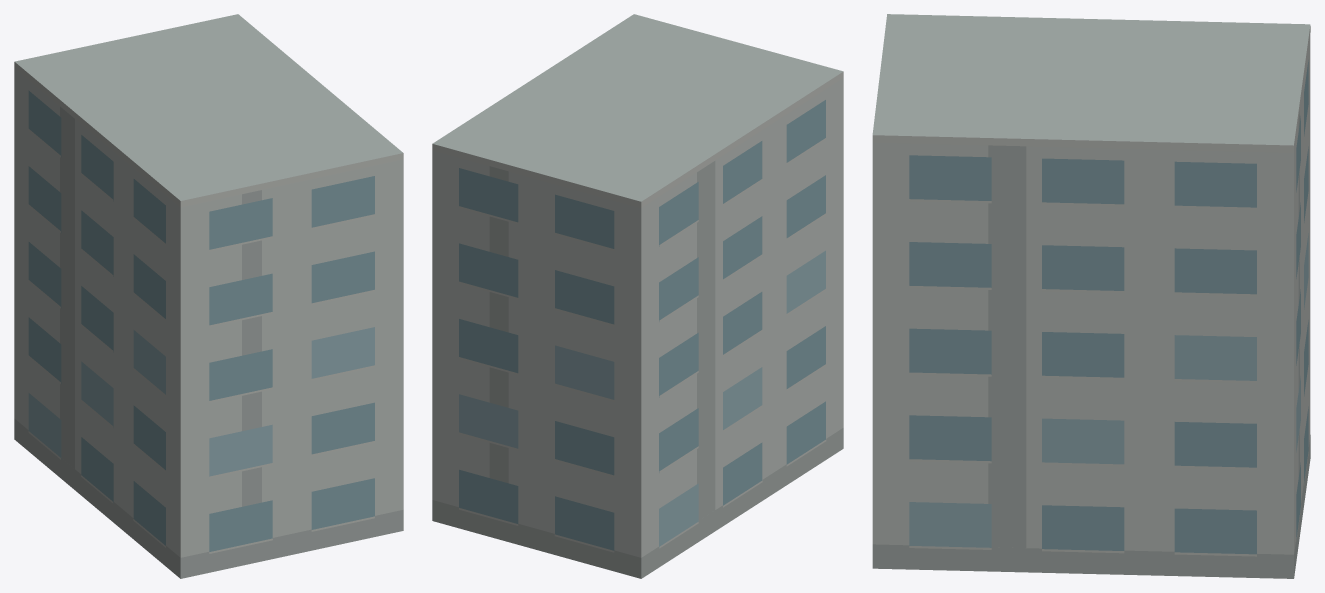
Rendered from survey-upis-32951584.glb.
3 views of the same model, side by side, from view 1: azimuth 30°, elevation 25°; view 2: azimuth 150°, elevation 25°; view 3: azimuth 270°, elevation 25° (orthographic). The views are drawn at different scales.
Visible parts, largest first — view 1: survey-upis-32951584.tmp; view 2: survey-upis-32951584.tmp; view 3: survey-upis-32951584.tmp.
Boxes of the visible parts, box(x1,y1,x2,y2) form: survey-upis-32951584.tmp: box(14, 14, 403, 578); survey-upis-32951584.tmp: box(432, 14, 843, 578); survey-upis-32951584.tmp: box(872, 14, 1310, 578).
Bounding box in the file's own units: 9.31 × 14.3 × 13.11.
